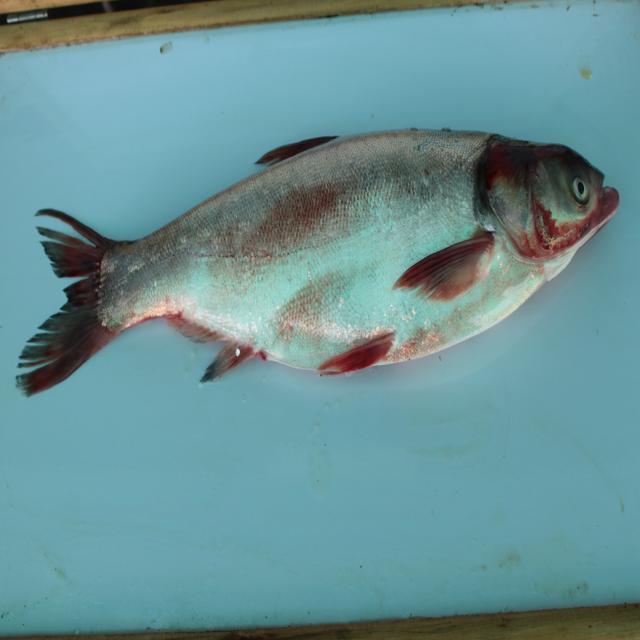SilverCarp: (24, 134, 585, 372)
